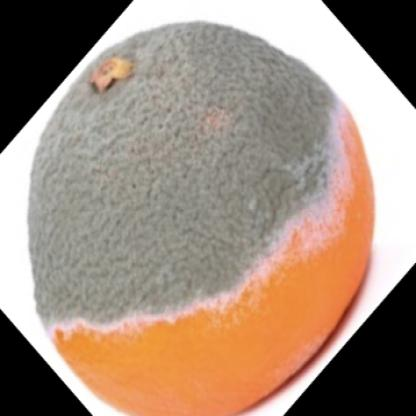rotten: (30, 22, 375, 416)
